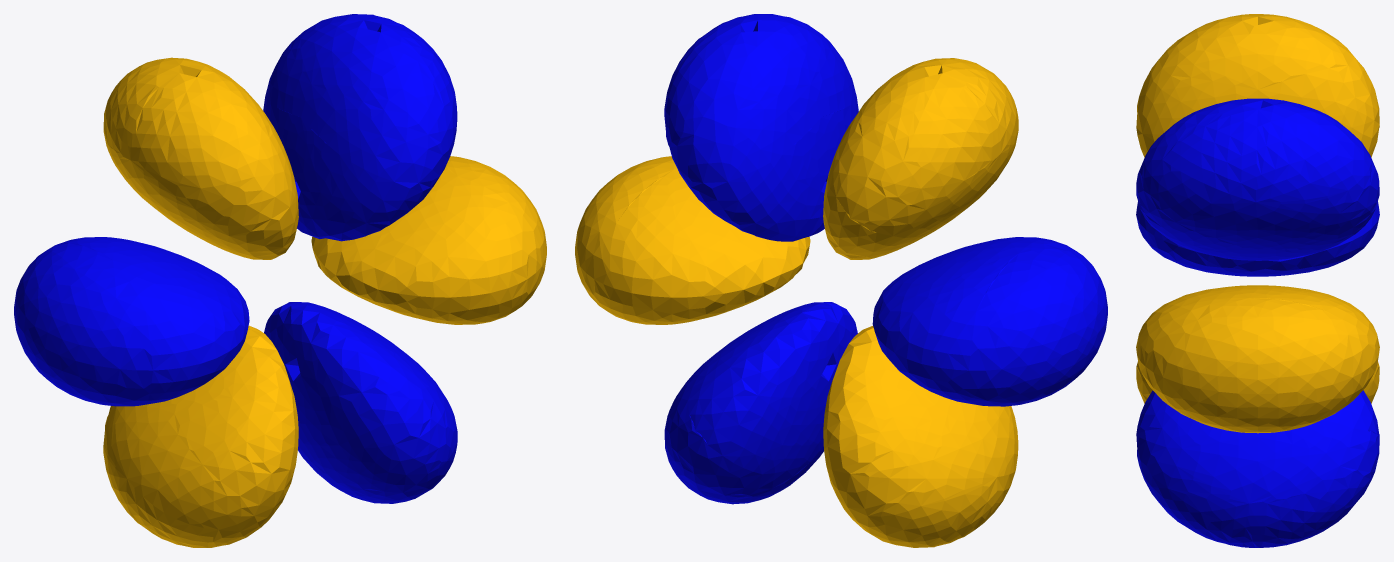
3 renders of one model, left to right at view 1: azimuth 30°, elevation 25°; view 2: azimuth 150°, elevation 25°; view 3: azimuth 270°, elevation 25°, orthographic. The views are drawn at different scales.
Bounding box in the file's own units: 26.32 × 23.64 × 11.98.
